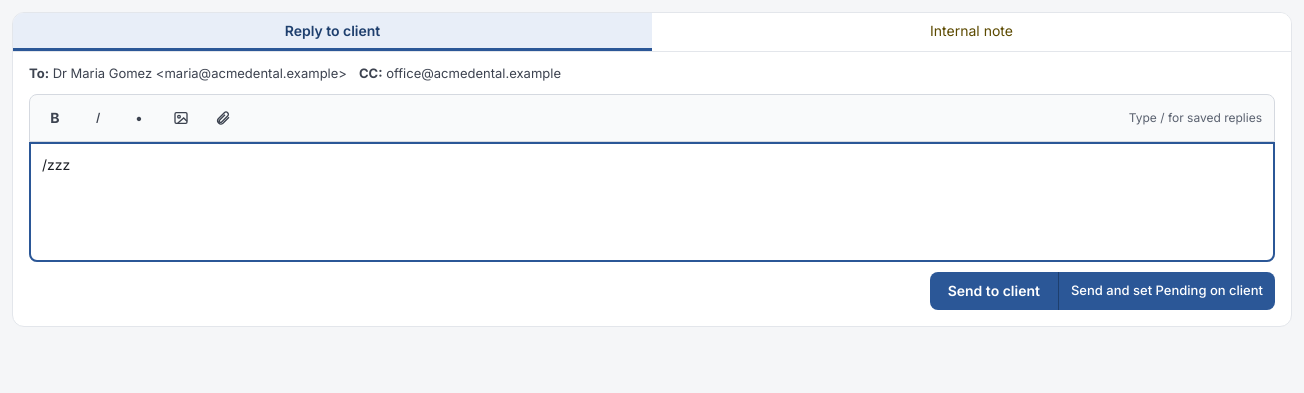
Test: Composer › Escape closes the saved-reply list; no match says so
The image size is (1304, 393).
Step 1. Clear the field named "Reply text" → (652, 202), box [29,142,1275,262]
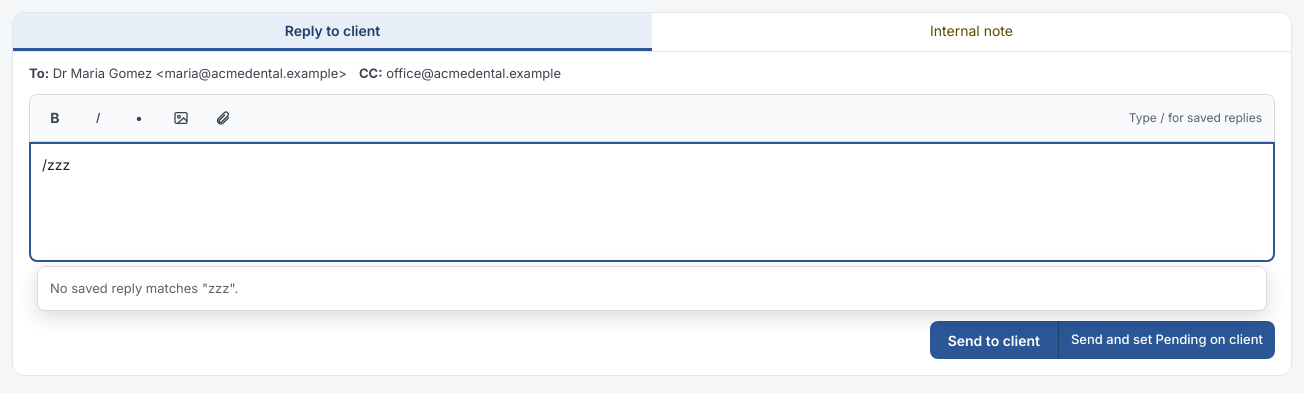
Result: the text "No saved reply matches \"zzz\"." is shown at [50,280,238,296]
Step 2. Press Escape in the field named "Reply text", box [29,142,1275,262]
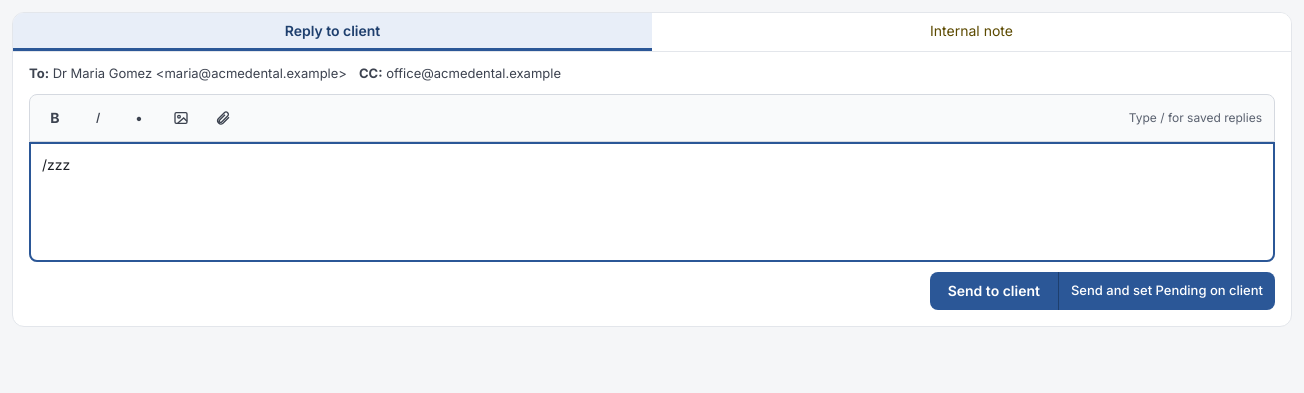
Result: the text "No saved reply matches" is gone
